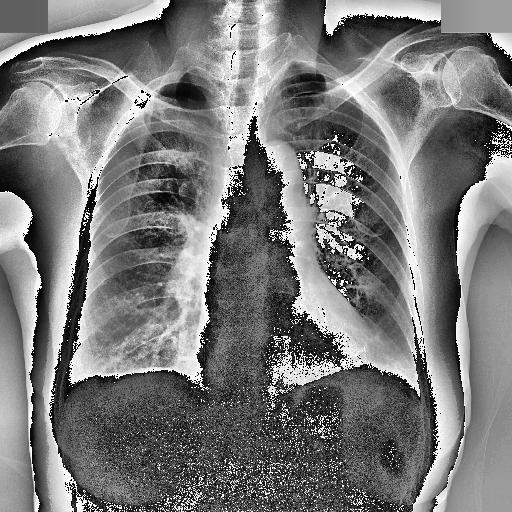0- Aortic enlargement: (250, 140, 306, 204), (247, 139, 300, 195), (260, 144, 306, 202)
11- Pleural thickening: (154, 83, 190, 92)
3- Cardiomegaly: (193, 295, 384, 377), (192, 325, 396, 391), (192, 322, 378, 392)
9- Other lesion: (72, 366, 189, 382)
